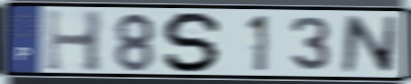1: (245, 13, 271, 72)
3: (288, 15, 335, 72)
8: (112, 9, 158, 73)
H: (44, 6, 106, 74)
N: (339, 14, 400, 75)
S: (161, 10, 228, 74)
